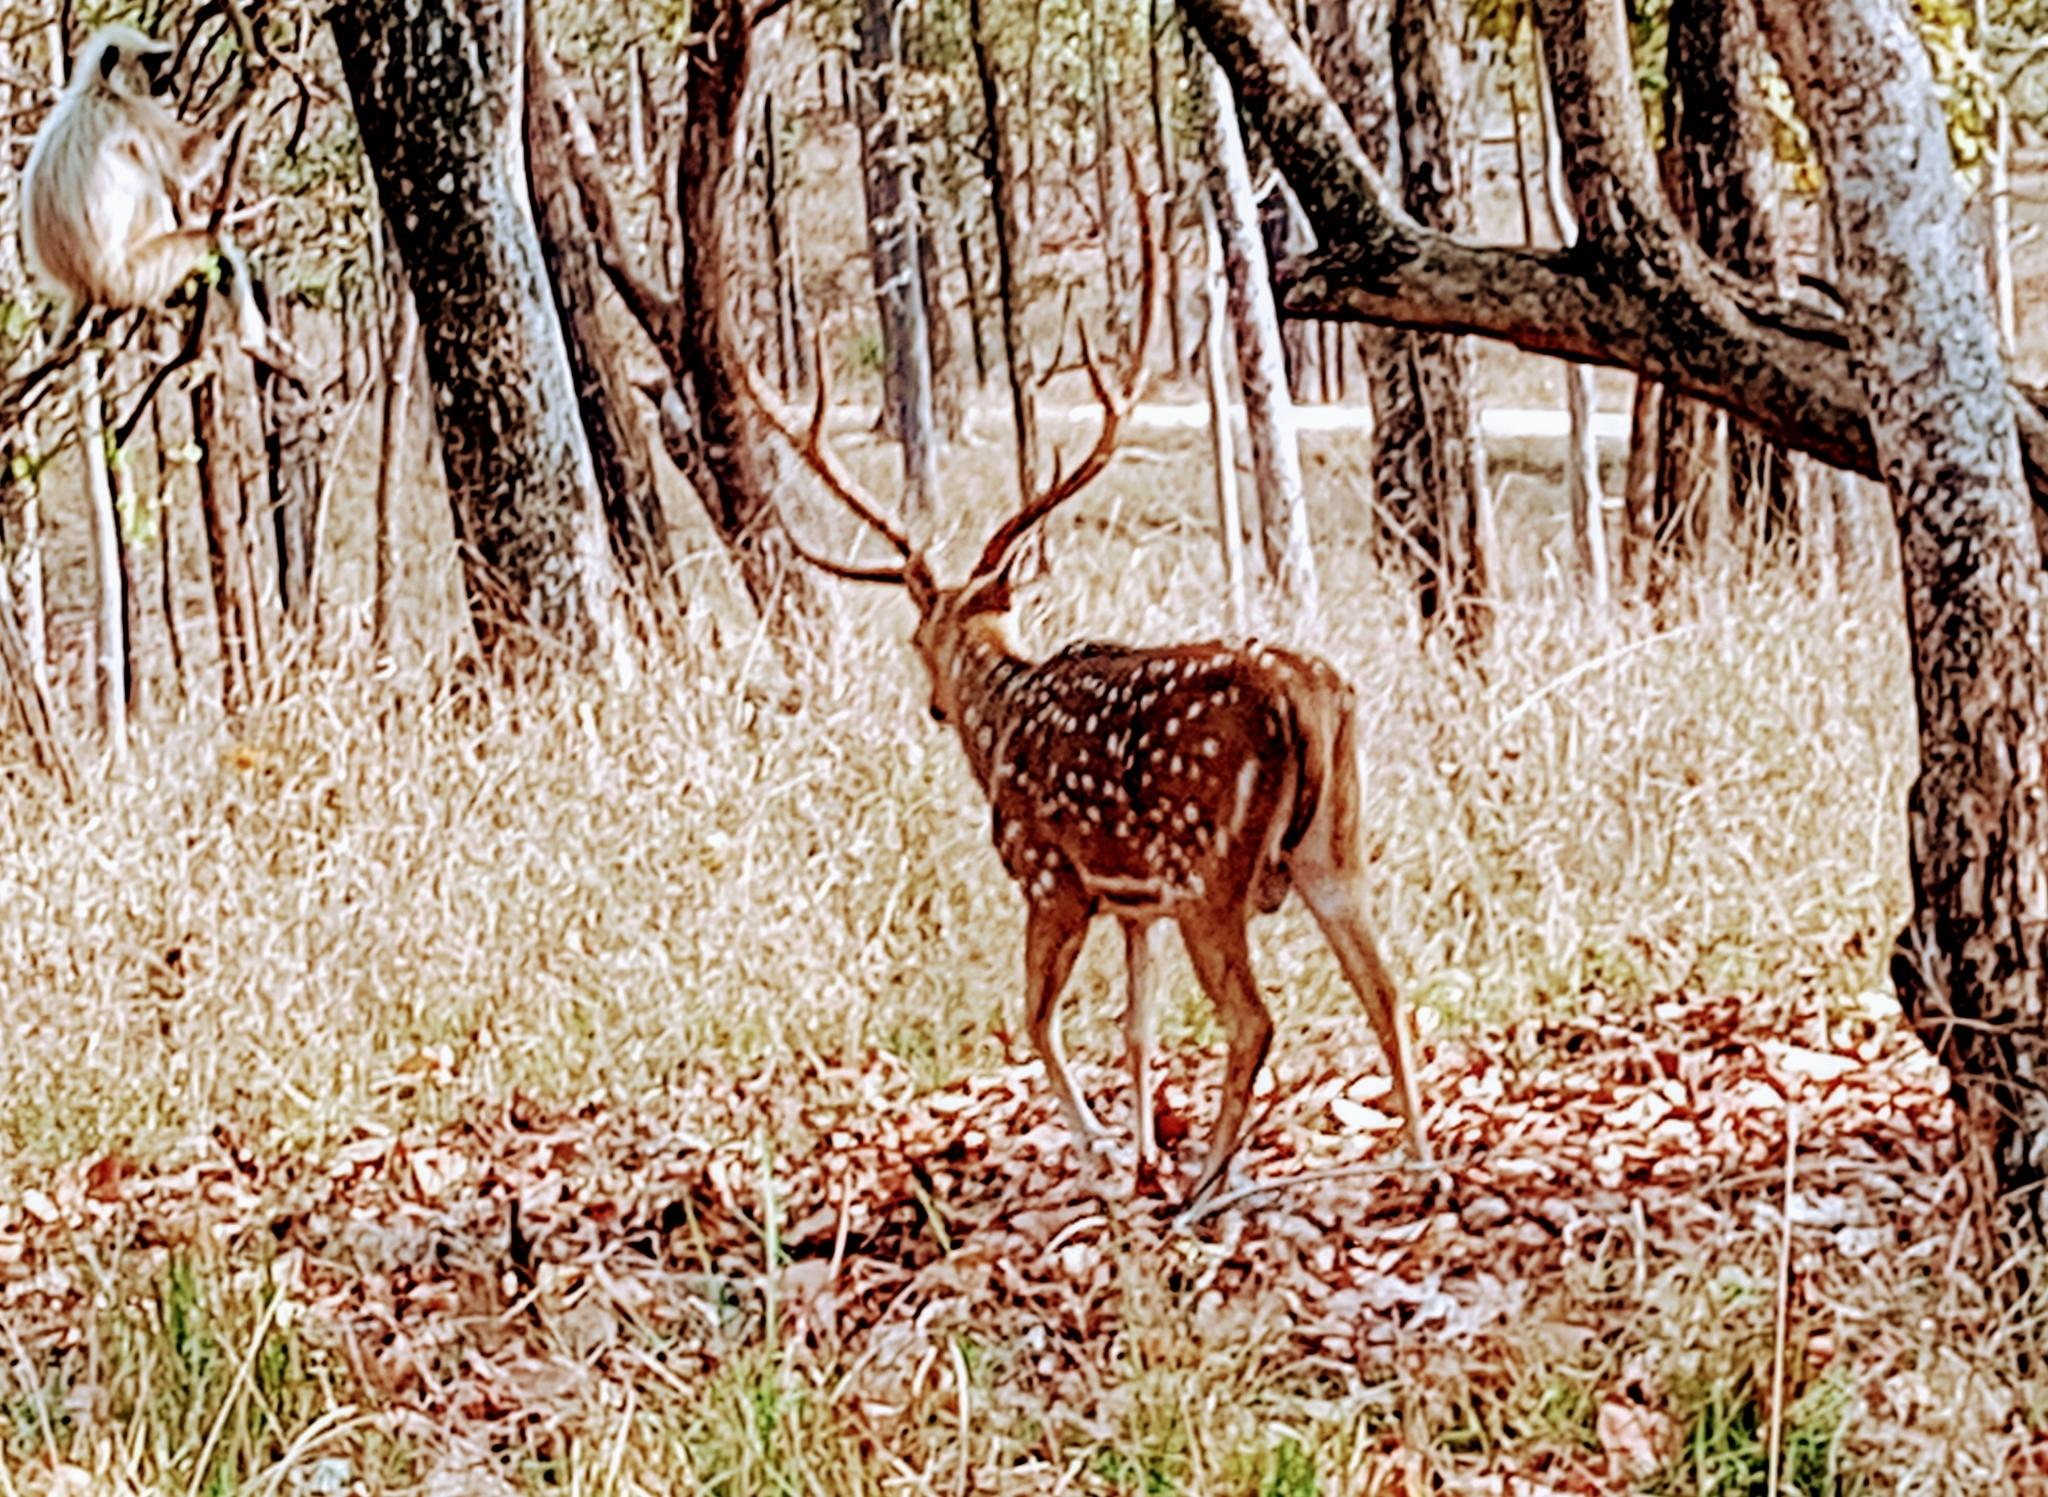Deer: (735, 191, 1426, 1203)
